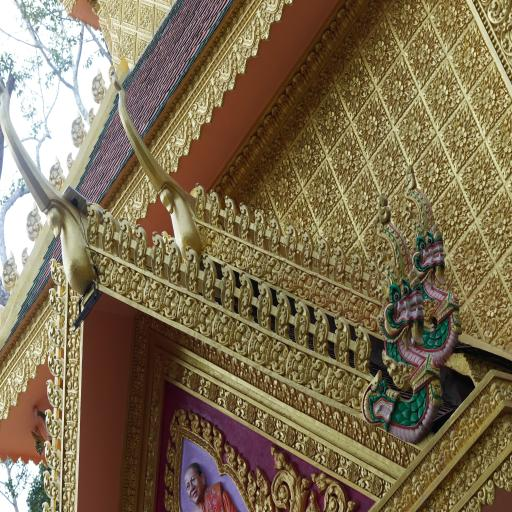hoa: (464, 268, 509, 342), (464, 62, 510, 134), (360, 9, 400, 83), (442, 98, 480, 174), (450, 16, 490, 88), (474, 181, 512, 256), (461, 137, 498, 211), (430, 178, 470, 244), (404, 23, 444, 88), (365, 130, 408, 189), (396, 96, 434, 162), (288, 118, 326, 182), (424, 62, 462, 126), (448, 230, 487, 292), (303, 162, 343, 222), (267, 152, 302, 217), (329, 128, 364, 191), (346, 166, 382, 227), (378, 62, 417, 118), (314, 84, 348, 148), (415, 138, 451, 198), (429, 0, 472, 48), (340, 54, 374, 114), (385, 0, 428, 47), (355, 98, 389, 155), (316, 194, 354, 242), (279, 192, 313, 237), (491, 113, 512, 174), (499, 244, 512, 294)
lua: (0, 63, 102, 289), (104, 56, 210, 267), (290, 291, 310, 350), (310, 303, 332, 351), (271, 282, 289, 339), (257, 276, 274, 330), (332, 308, 348, 364), (354, 318, 370, 374), (99, 204, 115, 256), (166, 234, 181, 286), (201, 248, 215, 302), (208, 186, 224, 232), (84, 200, 99, 248), (116, 212, 131, 260), (192, 179, 208, 223), (236, 268, 250, 318), (254, 200, 266, 258), (185, 245, 199, 294), (219, 257, 231, 314), (332, 241, 346, 289), (348, 249, 362, 296), (134, 217, 146, 271), (150, 226, 162, 280), (238, 194, 251, 243), (316, 234, 330, 279), (300, 226, 312, 276), (223, 192, 236, 237), (285, 219, 296, 269), (366, 257, 378, 296), (268, 213, 278, 259)
ran: (352, 166, 462, 454)
